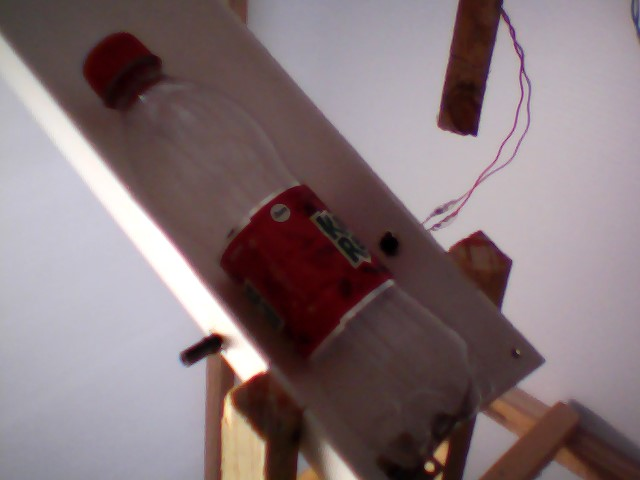plastico: (75, 25, 501, 475)
